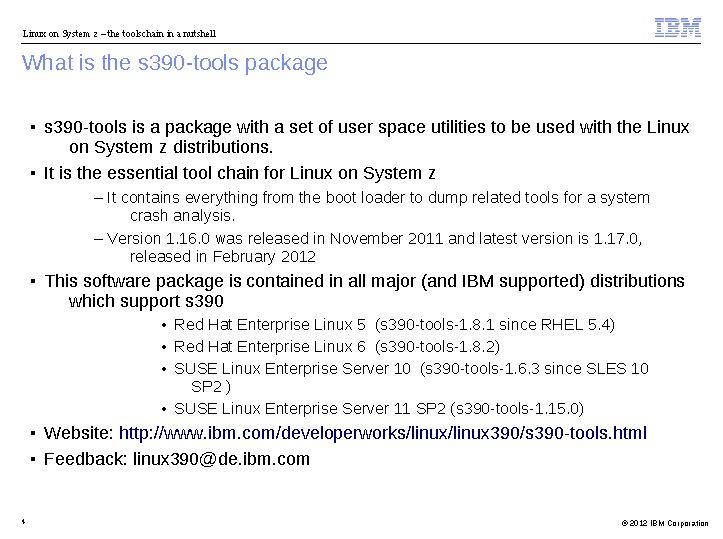paragraph: (14, 102, 712, 476)
subtitle: (16, 48, 335, 84)
title: (17, 22, 227, 42)
